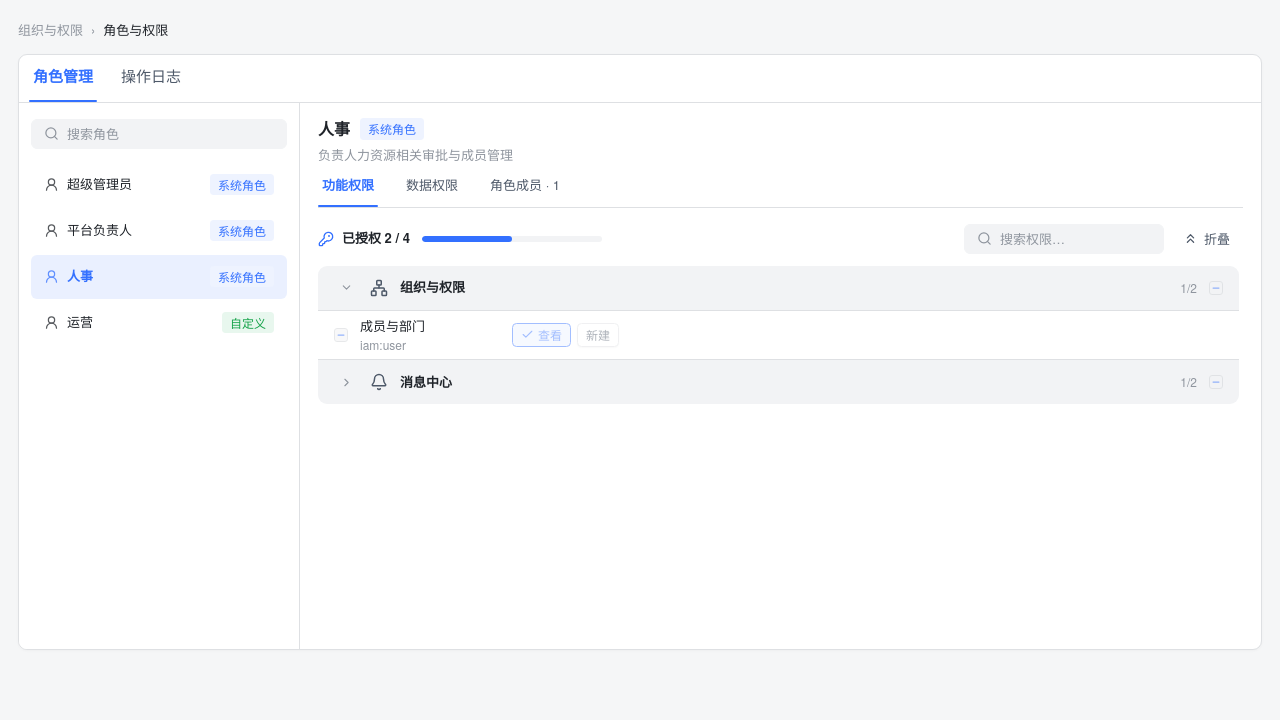
Test: viewer 能查看角色配置但看不到写操作
What coordinates should you click on to do the following:
click the tab "数据权限"
I would click on:
 (432, 191)
Its box is [402,176,462,207].
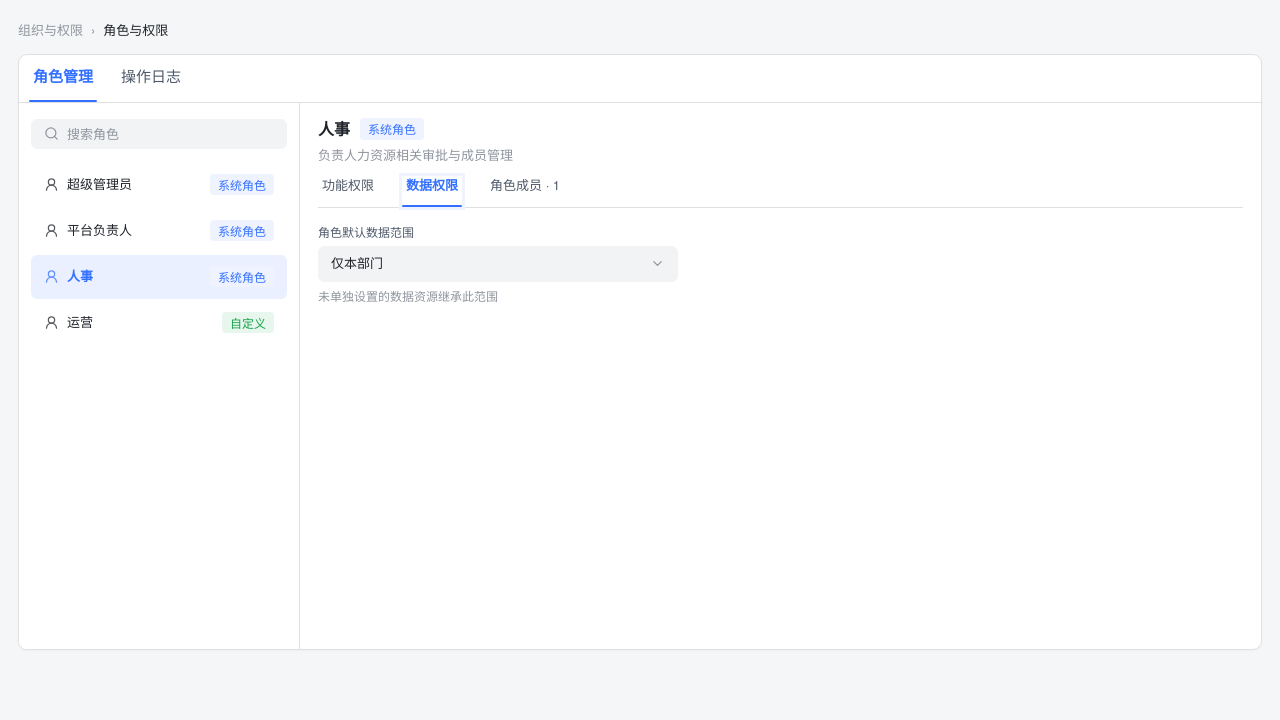
Expected: the text "角色默认数据范围" is shown, [318,223,414,240]
